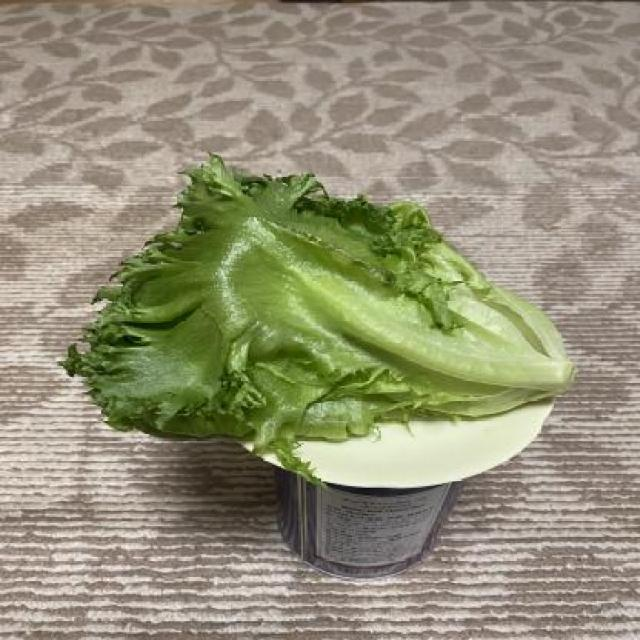lettuce: (54, 157, 576, 484)
